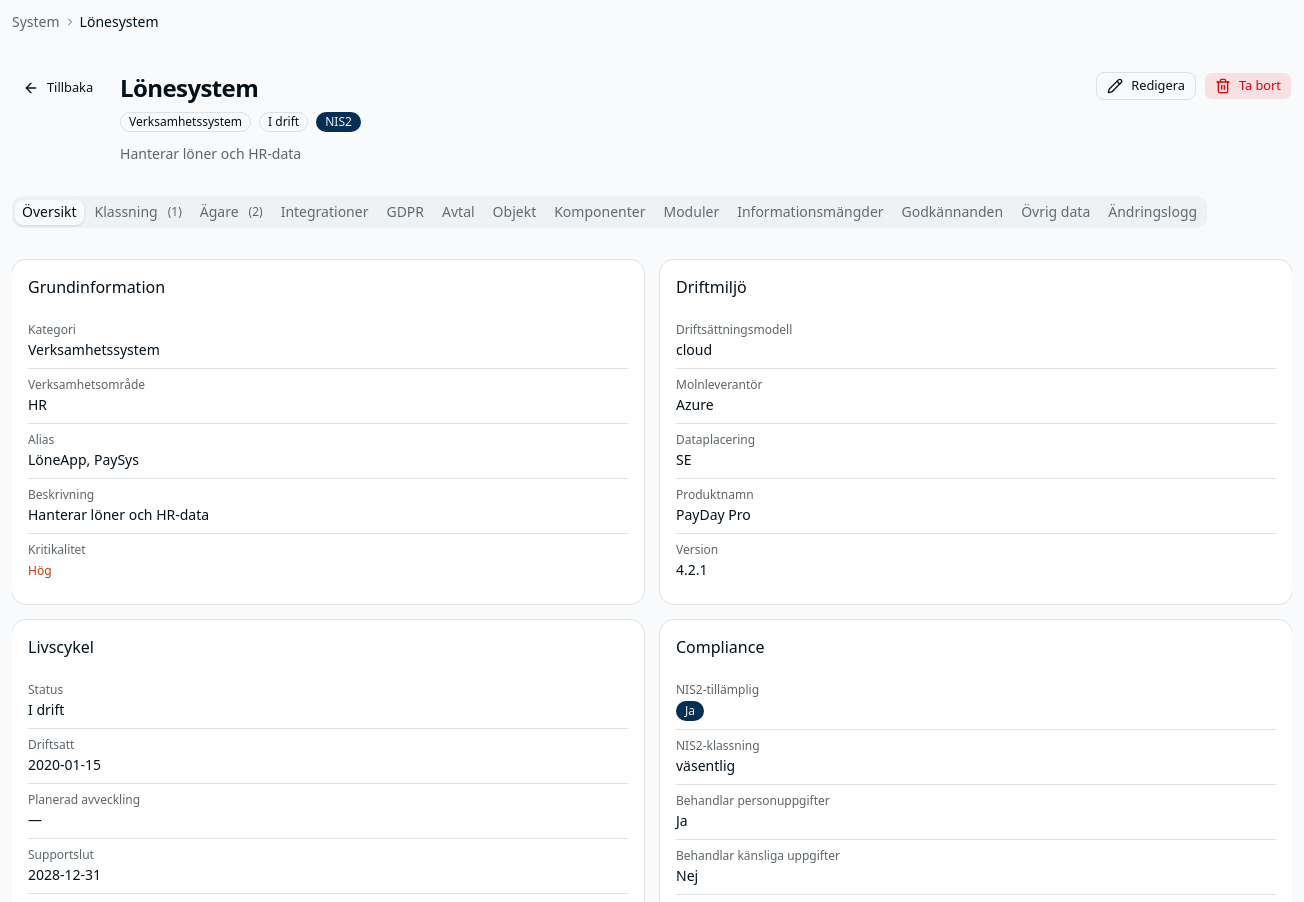
it: SystemDetailPage › Klassning-tab › visar klassning när man klickar på fliken
Click the tab "Klassning (1)" at (138, 212), box [88,200,189,224]
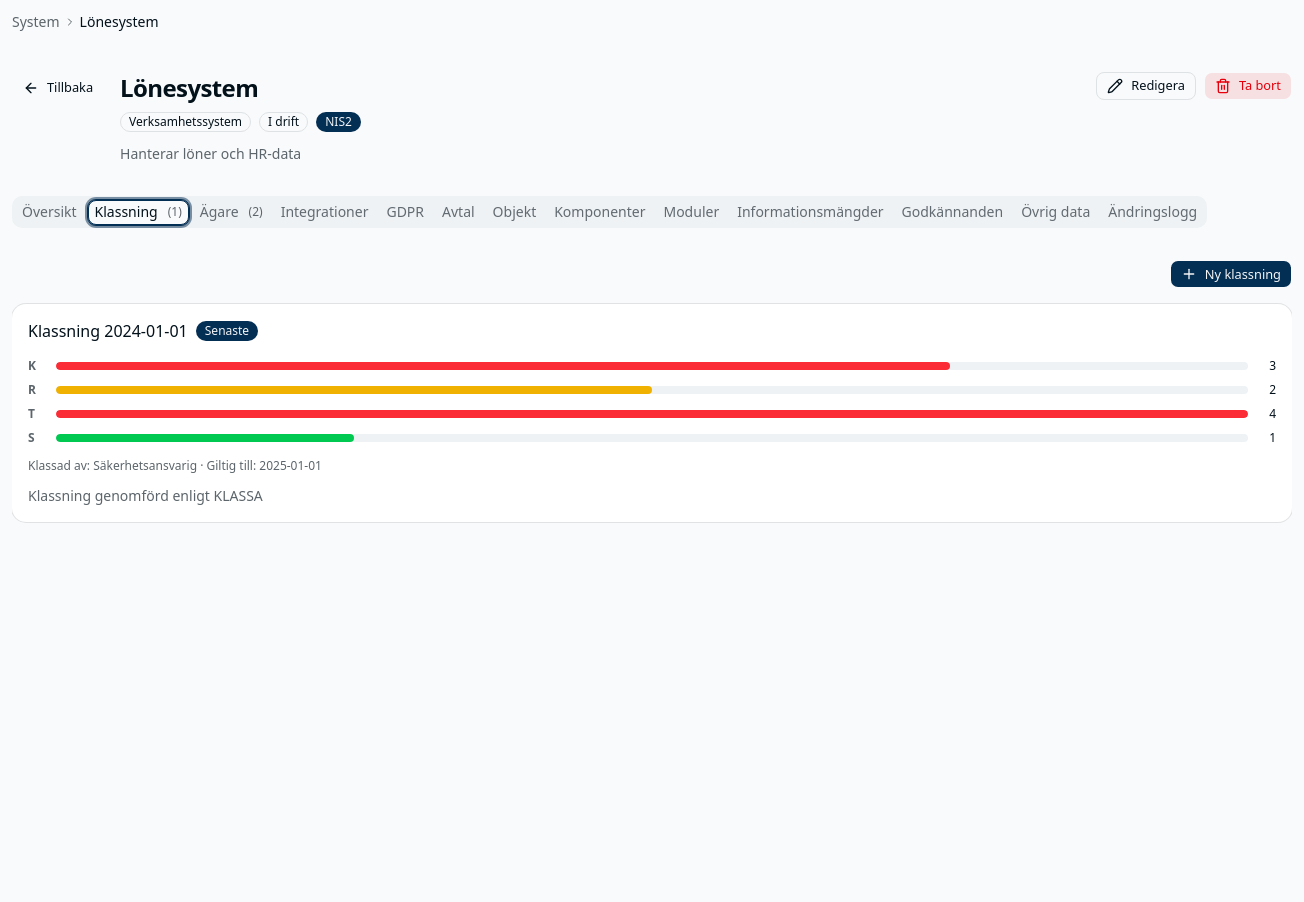
Now the text "Klassad av: Säkerhetsansvarig · Giltig till: 2025-01-01" is shown, box [28,457,322,474]
